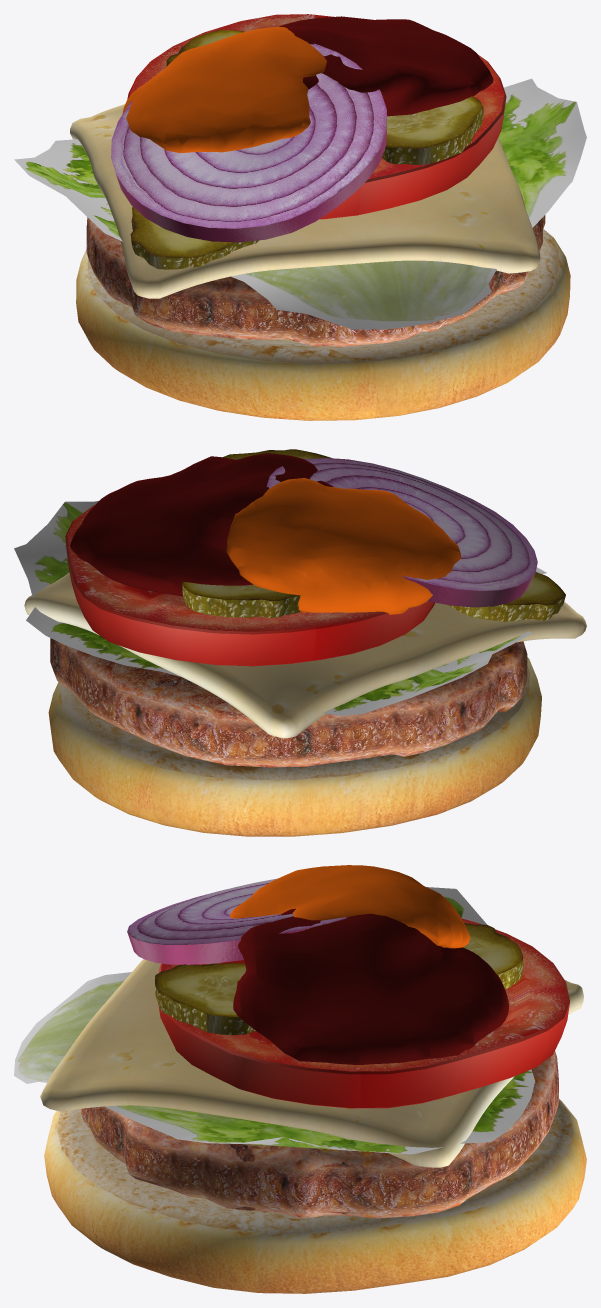
Rendered from burger.obj.
3 views of the same model, one above another, from view 1: azimuth 30°, elevation 25°; view 2: azimuth 150°, elevation 25°; view 3: azimuth 270°, elevation 25° (orthographic). The views are drawn at different scales.
Parts seen in each view (by area): view 1: obj1, obj10, obj3, obj4, obj11, obj2, obj12, obj5, obj9, obj7, obj8; view 2: obj1, obj2, obj11, obj4, obj12, obj5, obj10, obj3, obj8, obj7, obj9; view 3: obj1, obj12, obj2, obj4, obj5, obj3, obj11, obj10, obj9, obj8.
Part boxes in pixels (bbox=[...]): obj1: bbox=[76, 229, 570, 420]; obj10: bbox=[111, 43, 386, 242]; obj3: bbox=[14, 78, 586, 329]; obj4: bbox=[70, 104, 540, 298]; obj11: bbox=[122, 27, 326, 152]; obj2: bbox=[86, 215, 545, 346]; obj12: bbox=[279, 16, 493, 116]; obj5: bbox=[127, 14, 506, 219]; obj9: bbox=[382, 96, 483, 164]; obj7: bbox=[130, 206, 258, 269]; obj8: bbox=[166, 29, 244, 66]; obj1: bbox=[48, 657, 541, 836]; obj2: bbox=[50, 638, 527, 767]; obj11: bbox=[226, 478, 461, 614]; obj4: bbox=[24, 573, 586, 738]; obj12: bbox=[70, 453, 333, 596]; obj5: bbox=[65, 505, 434, 666]; obj10: bbox=[266, 458, 537, 607]; obj3: bbox=[14, 501, 546, 716]; obj8: bbox=[182, 581, 300, 617]; obj7: bbox=[449, 572, 565, 621]; obj9: bbox=[223, 449, 331, 459]; obj1: bbox=[44, 1099, 586, 1293]; obj12: bbox=[233, 908, 508, 1064]; obj2: bbox=[81, 1051, 558, 1218]; obj4: bbox=[40, 959, 583, 1167]; obj5: bbox=[158, 918, 569, 1108]; obj3: bbox=[14, 887, 534, 1154]; obj11: bbox=[230, 865, 470, 948]; obj10: bbox=[127, 878, 347, 964]; obj9: bbox=[155, 963, 255, 1035]; obj8: bbox=[463, 922, 523, 989].
Bounding box in the file's own units: 2.53 × 1.36 × 2.43.
Materials: 9 (7 with a texture image).
